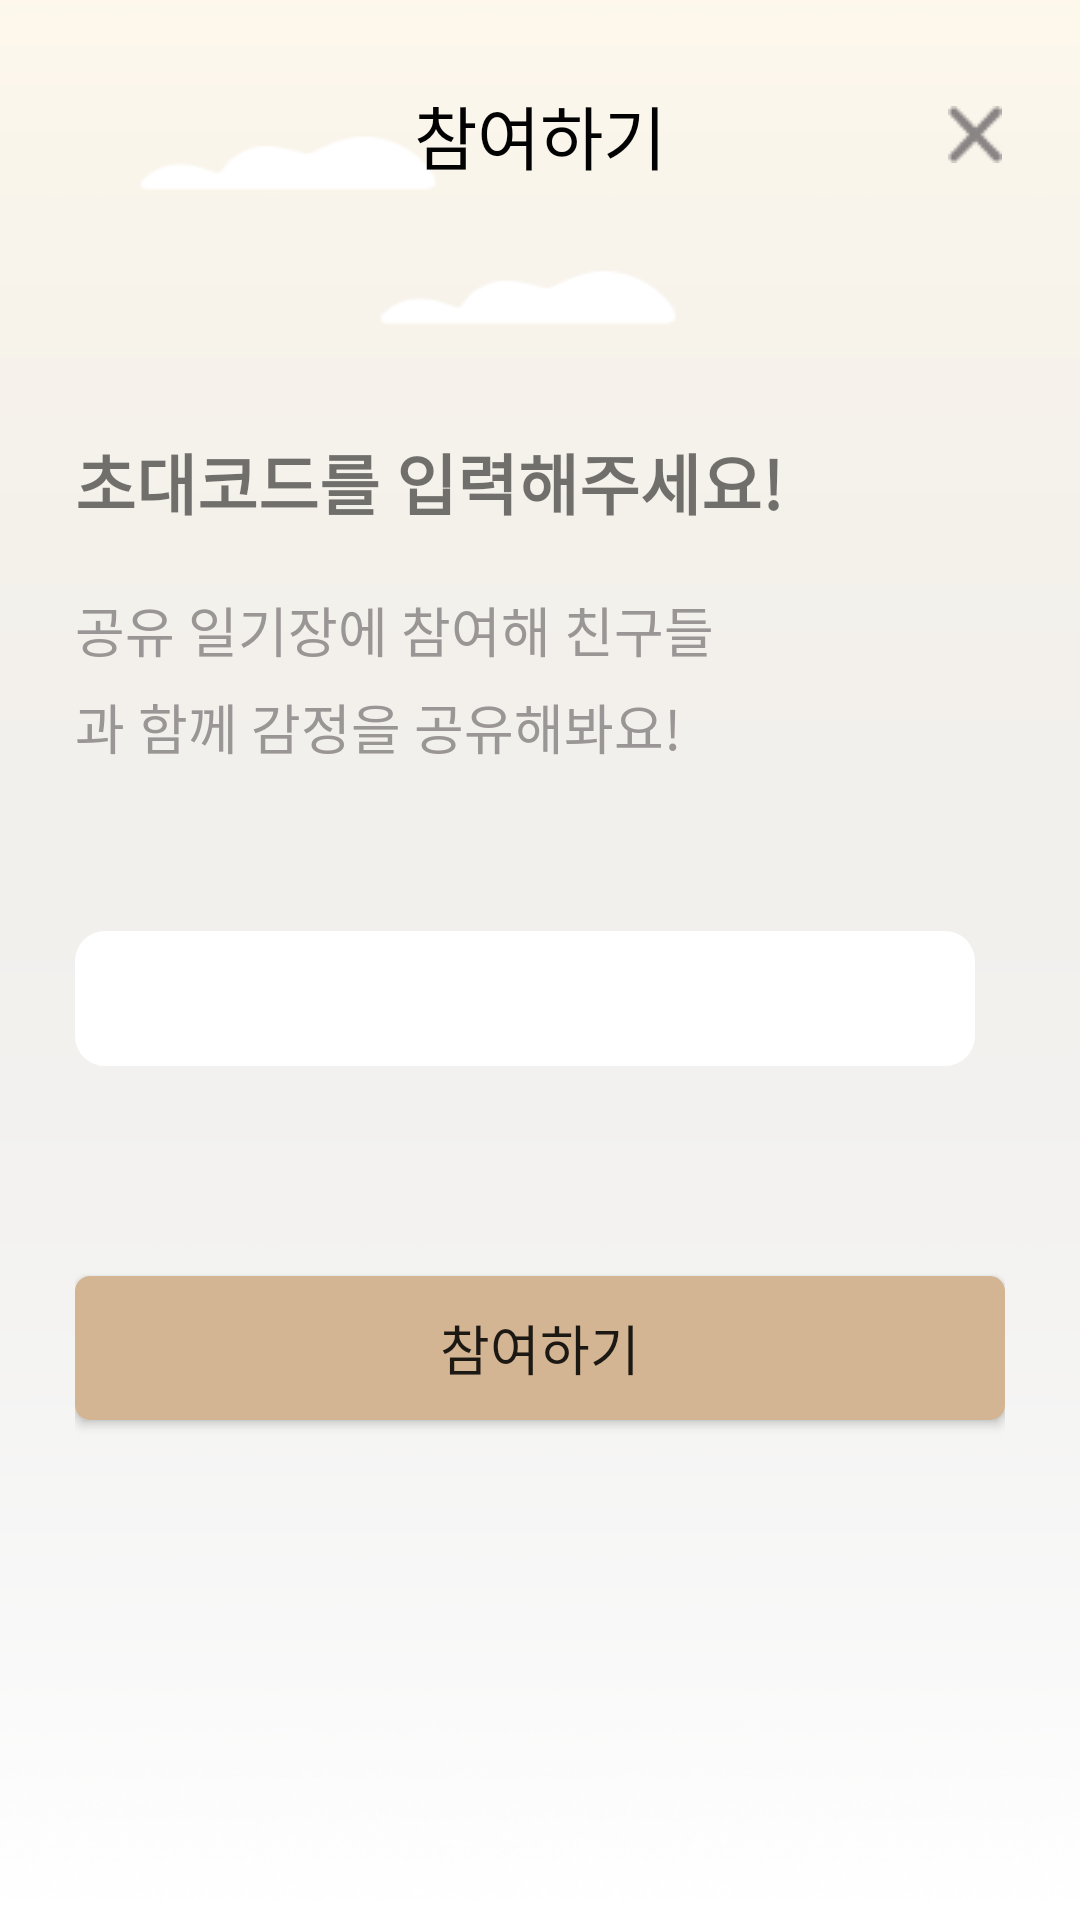

Screen size 1080 × 1920. Icon name, then its center in pixels as (x=x, y=y):
cancel: (x=975, y=134)
